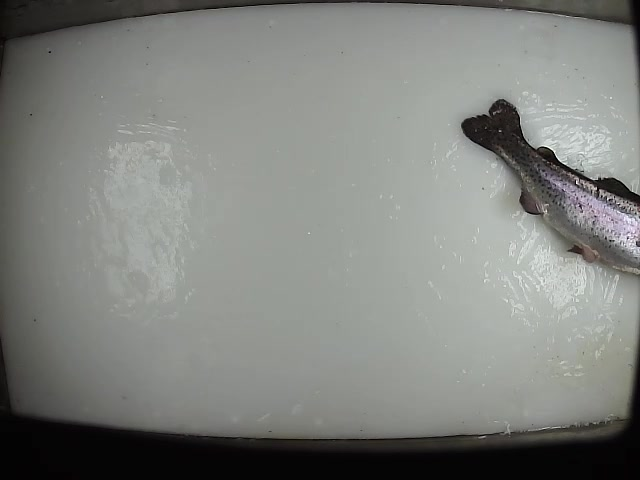fish: (458, 94, 640, 279)
